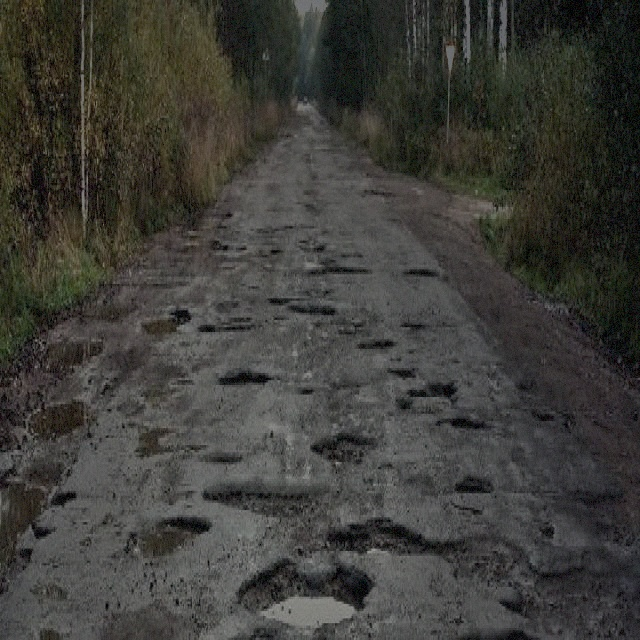pothole: (497, 556, 639, 638), (232, 553, 372, 628), (0, 464, 77, 594), (127, 510, 213, 568), (202, 479, 340, 515), (308, 431, 380, 462), (140, 305, 192, 337), (407, 378, 457, 407), (216, 366, 272, 387), (454, 472, 494, 501), (289, 296, 335, 320), (444, 412, 484, 436)
